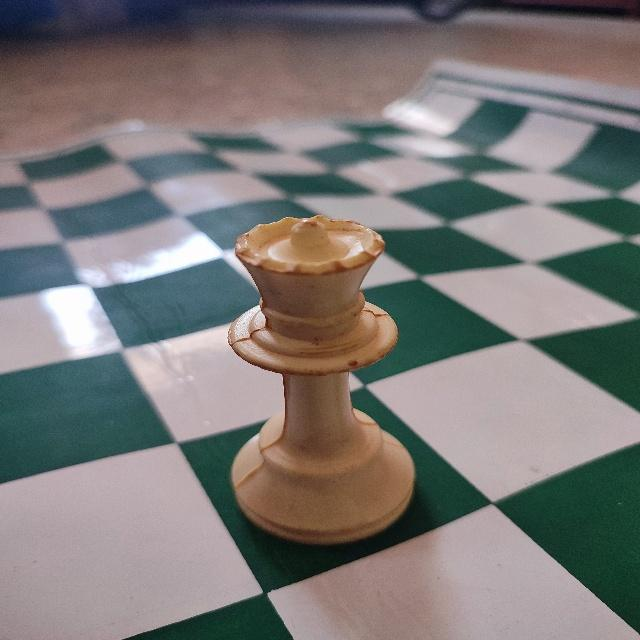Queen: (224, 209, 421, 548)
